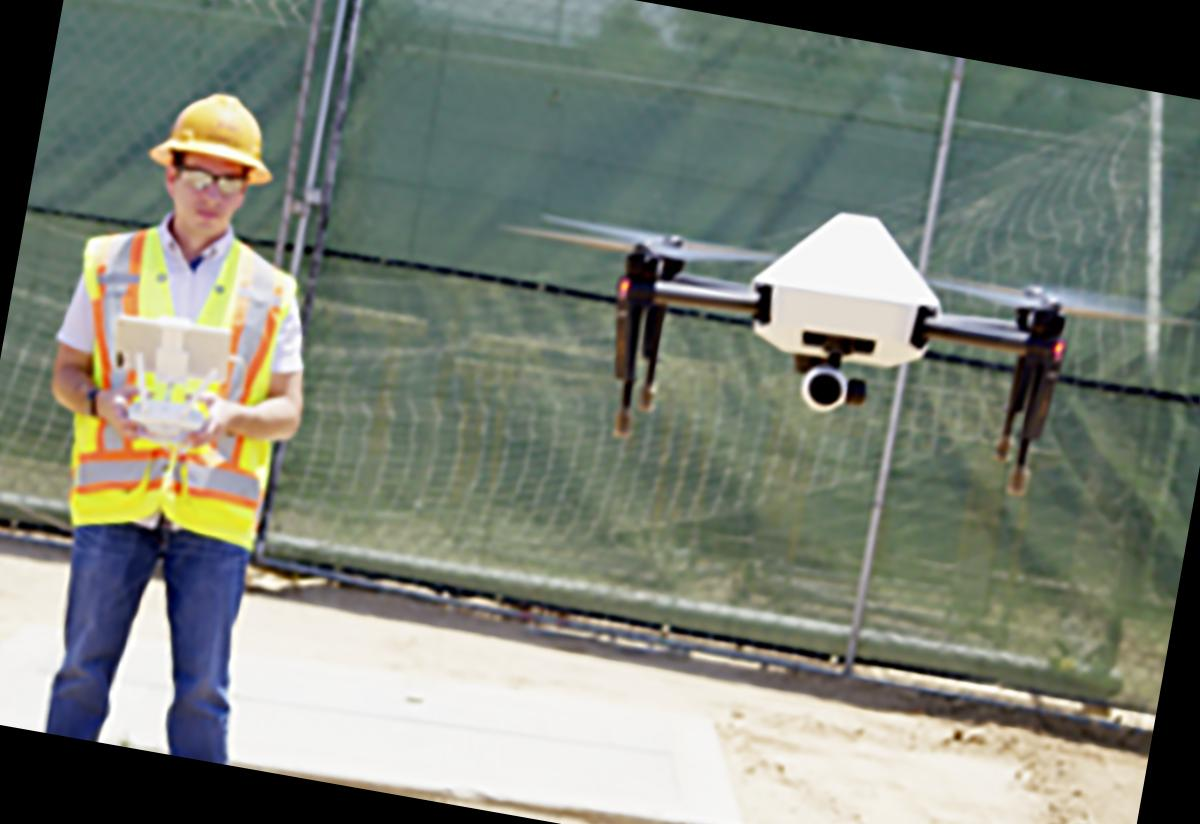drone: (465, 146, 1184, 508)
